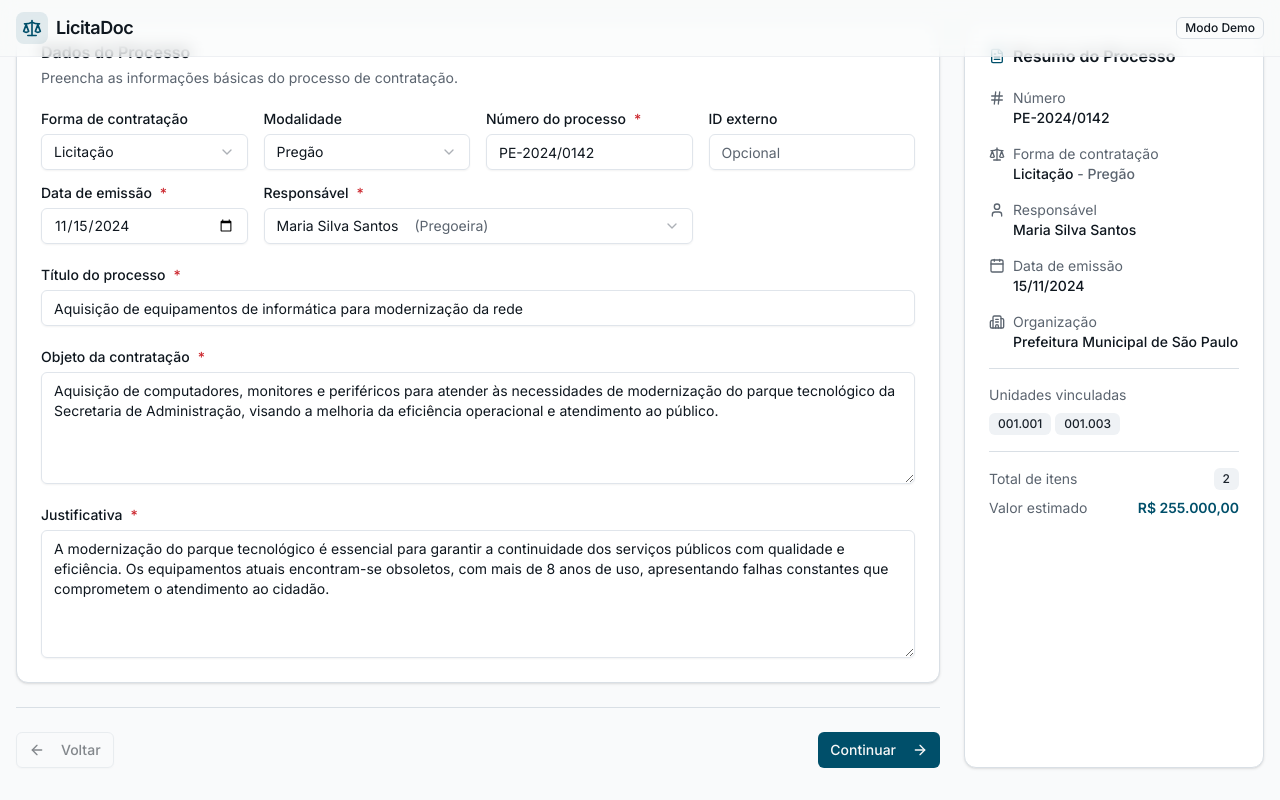
Test case: ProcessCreateDemoPage › does not show a description field for kits
(page scrolled)
Click the button "Continuar": (879, 750) [818,732,940,768]
(page scrolled)
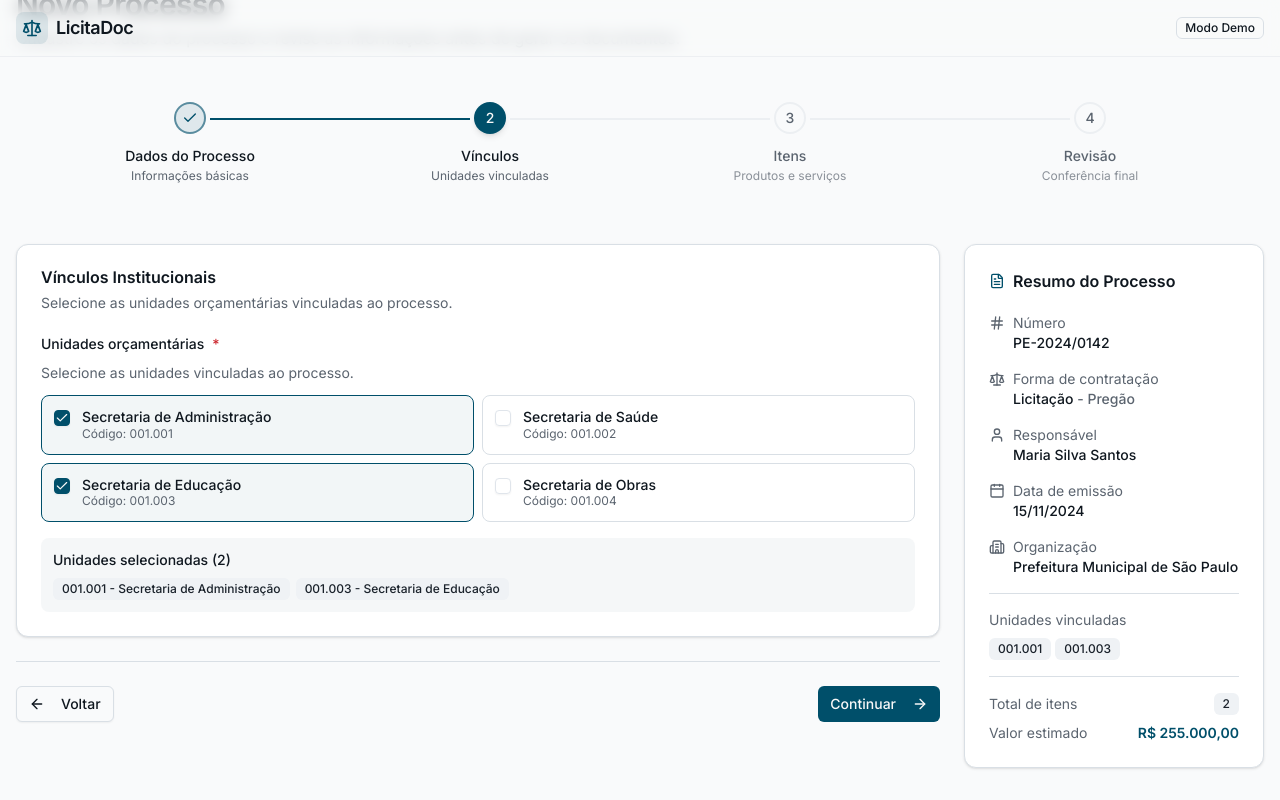
Click the button "Continuar": (879, 704) [818,686,940,722]
(page scrolled)
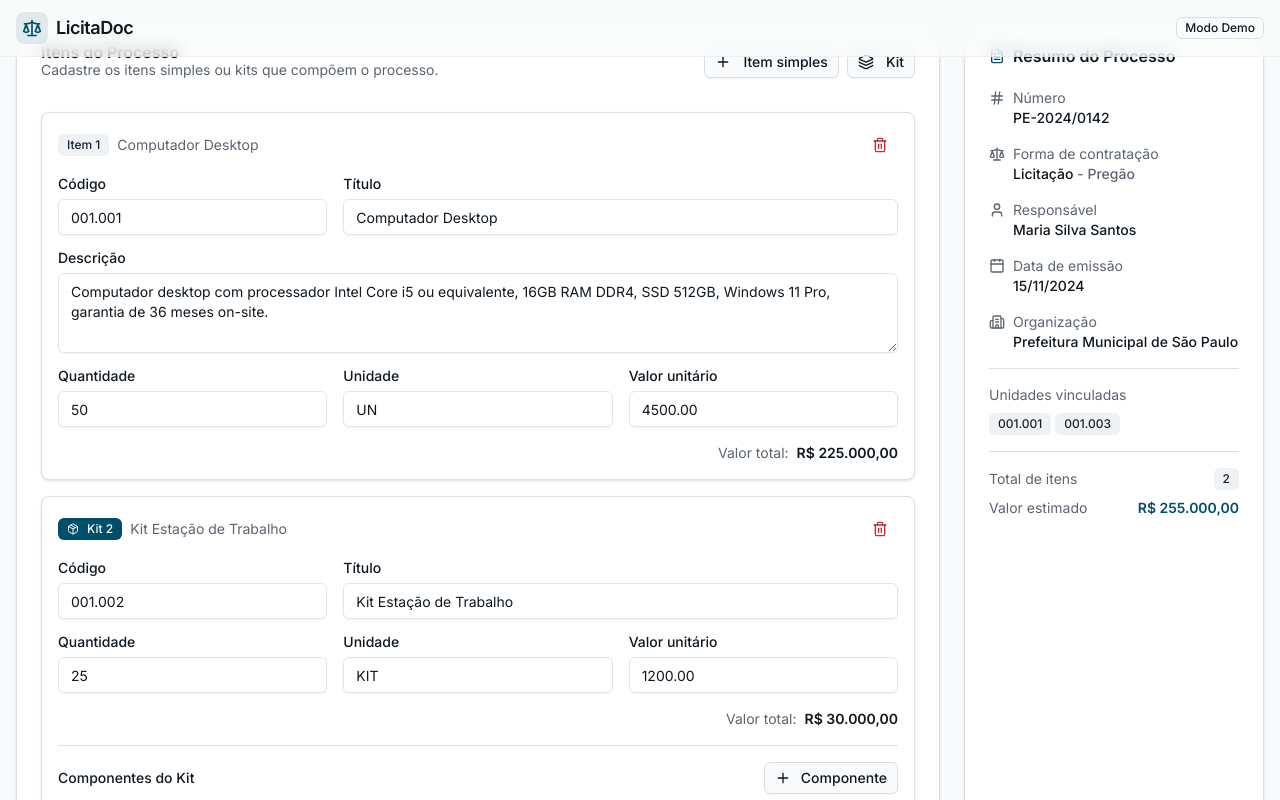
Check: the text "Kit Estação de Trabalho" is shown, box [130,519,287,539]
Check: the number of text boxes with placeholder "Descrição detalhada do item ou serviço" is 1, box [58,273,898,353]
